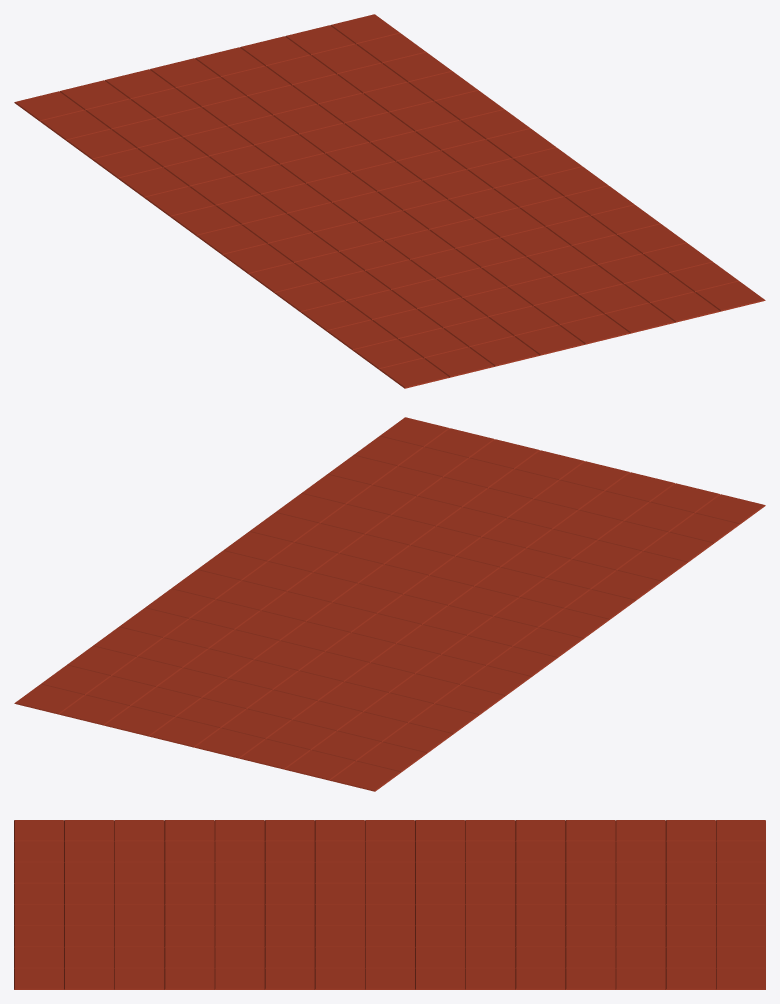
Rendered from playing field lvl2.fbx.
3 renders of one model, top to bottom at view 1: azimuth 30°, elevation 25°; view 2: azimuth 150°, elevation 25°; view 3: azimuth 270°, elevation 25°, orthographic. The views are drawn at different scales.
Visible parts, largest first — view 1: Plane.002, Plane.046, Plane.049, Plane.039, Plane.042, Plane.047, Plane.048, Plane.004, Plane.083, Plane.091, Plane.147, Plane.058 (+108 smaller); view 2: Plane.155, Plane.159, Plane.162, Plane.157, Plane.158, Plane.160, Plane.161, Plane.156, Plane.050, Plane.107, Plane.115, Plane.066 (+108 smaller); view 3: Plane.050, Plane.058, Plane.064, Plane.066, Plane.068, Plane.071, Plane.073, Plane.074, Plane.075, Plane.081, Plane.083, Plane.091 (+108 smaller).
Boxes of the visible parts, left/top/right/bottom form: Plane.002: left=379, top=358, right=449, bottom=388; Plane.046: left=559, top=314, right=630, bottom=344; Plane.049: left=695, top=281, right=765, bottom=311; Plane.039: left=469, top=336, right=539, bottom=366; Plane.042: left=514, top=325, right=584, bottom=355; Plane.047: left=605, top=303, right=675, bottom=333; Plane.048: left=650, top=292, right=720, bottom=322; Plane.004: left=424, top=347, right=494, bottom=377; Plane.083: left=249, top=263, right=318, bottom=293; Plane.091: left=222, top=244, right=292, bottom=274; Plane.147: left=40, top=110, right=110, bottom=140; Plane.058: left=327, top=320, right=396, bottom=350; Plane.155: left=330, top=761, right=400, bottom=791; Plane.159: left=149, top=717, right=220, bottom=747; Plane.162: left=14, top=684, right=84, bottom=714; Plane.157: left=240, top=739, right=310, bottom=769; Plane.158: left=195, top=728, right=265, bottom=758; Plane.160: left=104, top=706, right=174, bottom=736; Plane.161: left=59, top=695, right=129, bottom=725; Plane.156: left=285, top=750, right=355, bottom=780; Plane.050: left=669, top=513, right=739, bottom=543; Plane.107: left=487, top=647, right=557, bottom=677; Plane.115: left=461, top=666, right=530, bottom=696; Plane.066: left=617, top=551, right=687, bottom=581; Plane.050: left=64, top=820, right=114, bottom=841; Plane.058: left=114, top=820, right=164, bottom=841; Plane.064: left=114, top=947, right=164, bottom=968; Plane.066: left=164, top=820, right=214, bottom=841; Plane.068: left=164, top=841, right=214, bottom=862; Plane.071: left=164, top=904, right=214, bottom=926; Plane.073: left=164, top=947, right=214, bottom=968; Plane.074: left=164, top=968, right=214, bottom=989; Plane.075: left=214, top=820, right=264, bottom=841; Plane.081: left=214, top=947, right=264, bottom=968; Plane.083: left=264, top=820, right=314, bottom=841; Plane.091: left=314, top=820, right=364, bottom=841.
Bounding box in the file's own units: 1600 × 3.8 × 3000.
